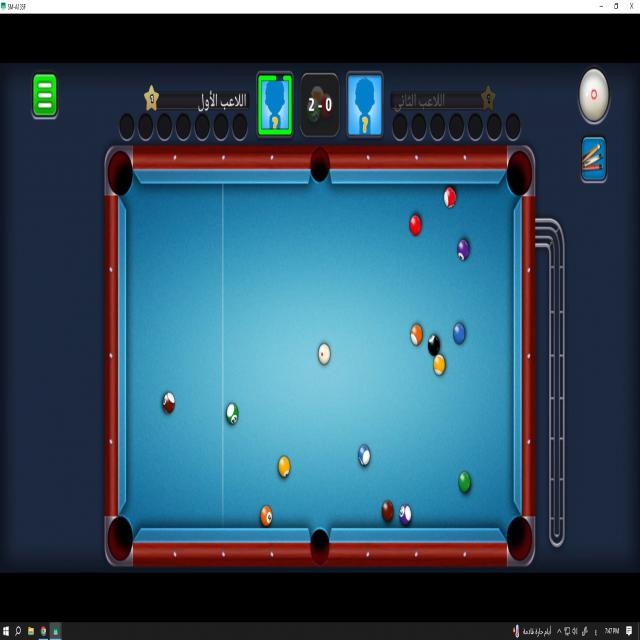object_ball: (453, 323, 465, 344), (428, 335, 440, 356), (278, 457, 290, 477), (399, 505, 411, 525), (382, 501, 393, 522), (459, 472, 470, 493), (227, 403, 238, 424), (163, 392, 174, 413), (410, 215, 421, 236), (458, 240, 469, 261), (411, 325, 422, 345), (359, 445, 370, 465), (261, 506, 272, 526), (444, 188, 455, 207), (434, 355, 444, 375)
white_cue_ball: (319, 344, 330, 365)
